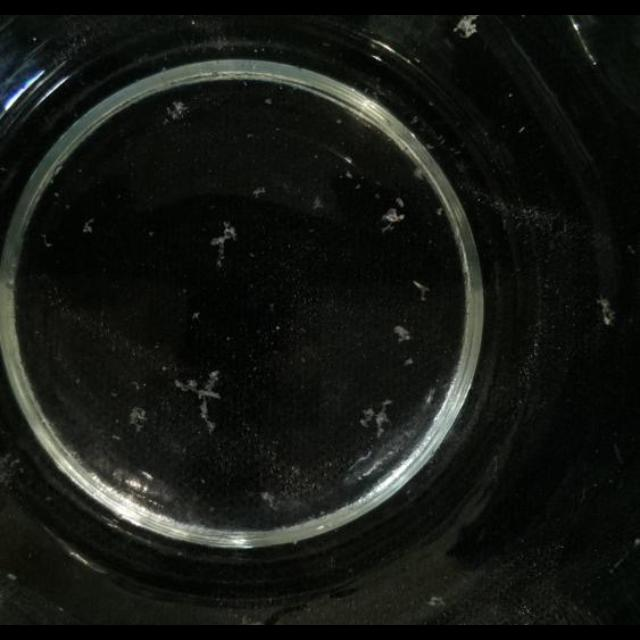Fibre: (359, 398, 395, 438), (210, 220, 238, 266), (197, 395, 217, 433), (380, 206, 404, 232), (454, 15, 481, 37), (597, 298, 617, 326), (166, 100, 188, 122), (128, 406, 148, 430), (412, 280, 430, 302), (393, 325, 411, 343), (176, 378, 197, 392), (83, 218, 95, 234), (42, 233, 54, 247), (313, 196, 325, 210), (252, 187, 266, 197)
microbeads: (427, 596, 445, 608)
